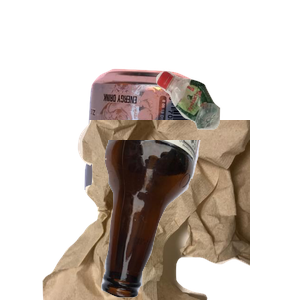glass: (99, 140, 300, 300)
metal: (82, 66, 270, 246)
plastic: (153, 68, 300, 190)
trash: (40, 120, 280, 300)
